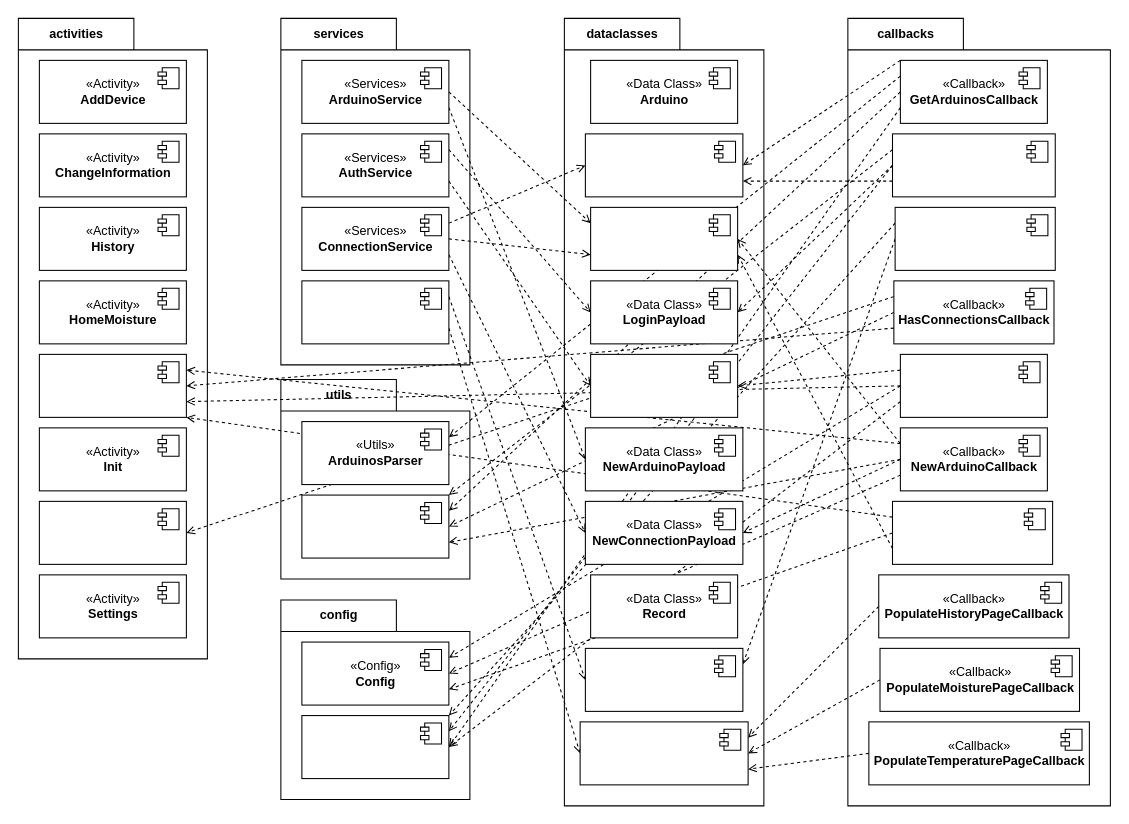
The diagram is 1129 pixels wide and 824 high, and some of its shapes have lost their labels. Each missing label, with the centre of its shape:
"«Activity» HomeThermometer" goes at (x=112, y=385).
"«Activity» NewDevice" goes at (x=112, y=532).
"«Callback» GetConnectionsCallback" goes at (x=973, y=165).
"«Callback» GetLastRecordCallback" goes at (x=974, y=238).
"«Callback» LoginCallback" goes at (x=973, y=385).
"«Callback» NewConnectionCallback" goes at (x=972, y=532).
"«Config» Global" goes at (x=375, y=747).
"«Data Class» ConnectionsResponse" goes at (x=663, y=165).
"«Data Class» GenericResponse" goes at (x=664, y=238).
"«Data Class» LoginResponse" goes at (x=664, y=385).
"«Data Class» MultipleRecordResponse" goes at (x=663, y=753).
"«Data Class» SingleRecordResponse" goes at (x=663, y=679).
"«Services» ThermostatService" goes at (x=375, y=312).
"«Utils» RetrofitInitializer" goes at (x=375, y=526).
